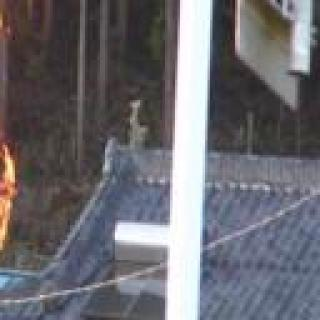fire: (0, 0, 16, 265)
